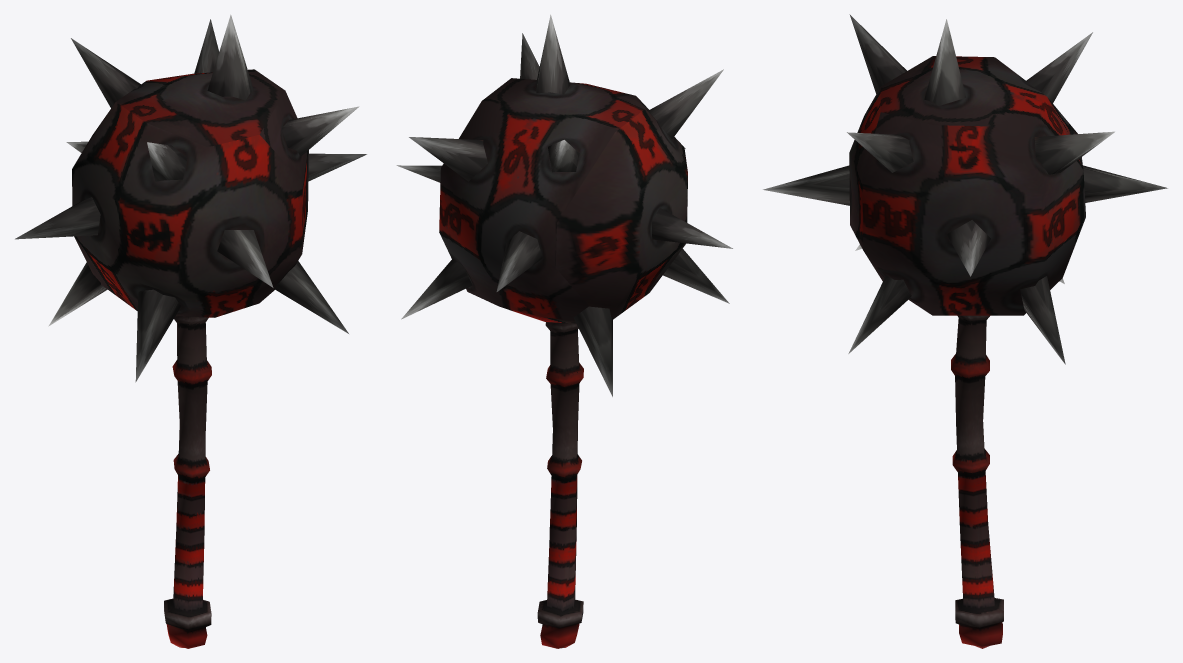
File: WP_1H_Mace08.FBX
The picture shows the model from 3 angles, left to right: view 1: azimuth 30°, elevation 25°; view 2: azimuth 150°, elevation 25°; view 3: azimuth 270°, elevation 25°; orthographic projection. The views are drawn at different scales.
Visible parts, largest first — view 1: WP_1H_Mace08; view 2: WP_1H_Mace08; view 3: WP_1H_Mace08.
Part boxes in pixels (<box>): WP_1H_Mace08: <box>15,14,366,648</box>; WP_1H_Mace08: <box>396,14,732,648</box>; WP_1H_Mace08: <box>763,14,1167,648</box>.
Size of the model in its own units: 54.66 by 94.6 by 54.34.
1 material, 1 textured.
